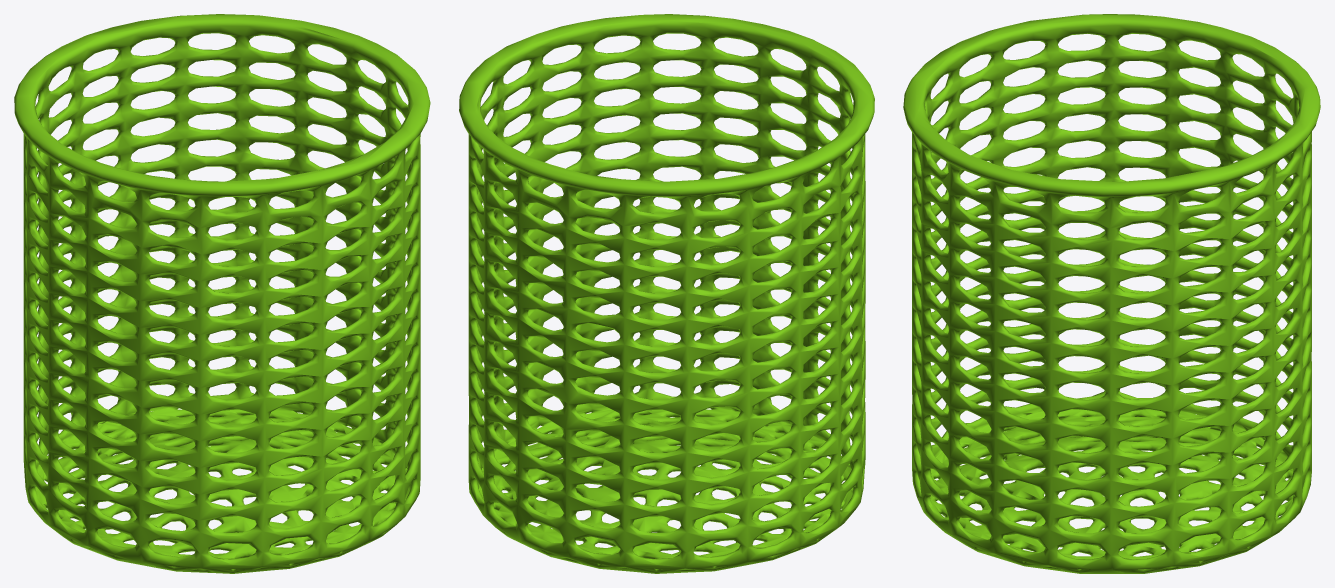
File: Vaso.fbx
3 renders of one model, left to right at view 1: azimuth 30°, elevation 25°; view 2: azimuth 150°, elevation 25°; view 3: azimuth 270°, elevation 25°, orthographic.
Parts seen in each view (by area): view 1: pengolder; view 2: pengolder; view 3: pengolder.
Boxes of the visible parts, box(x1,y1,x2,y2) form: pengolder: box(14, 14, 430, 573); pengolder: box(459, 14, 874, 573); pengolder: box(903, 14, 1320, 573).
Size of the model in its own units: 1.79 by 1.88 by 1.8.
